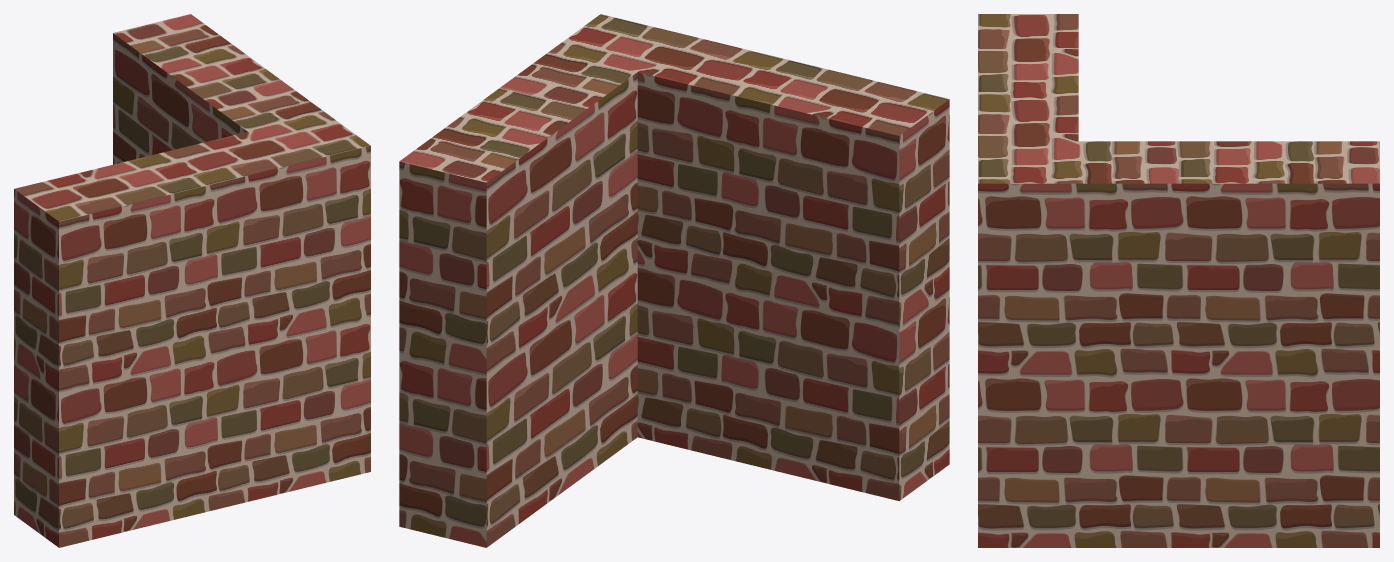
File: BrickWallCorner.obj
3 renders of one model, left to right at view 1: azimuth 30°, elevation 25°; view 2: azimuth 150°, elevation 25°; view 3: azimuth 270°, elevation 25°, orthographic. The views are drawn at different scales.
Visible parts, largest first — view 1: Cube.002; view 2: Cube.002; view 3: Cube.002.
Part boxes in pixels (x1,y1,x2,y2): Cube.002: (14,14,370,547); Cube.002: (399,14,949,547); Cube.002: (978,14,1379,547).
Size of the model in its own units: 2 by 2 by 2.
